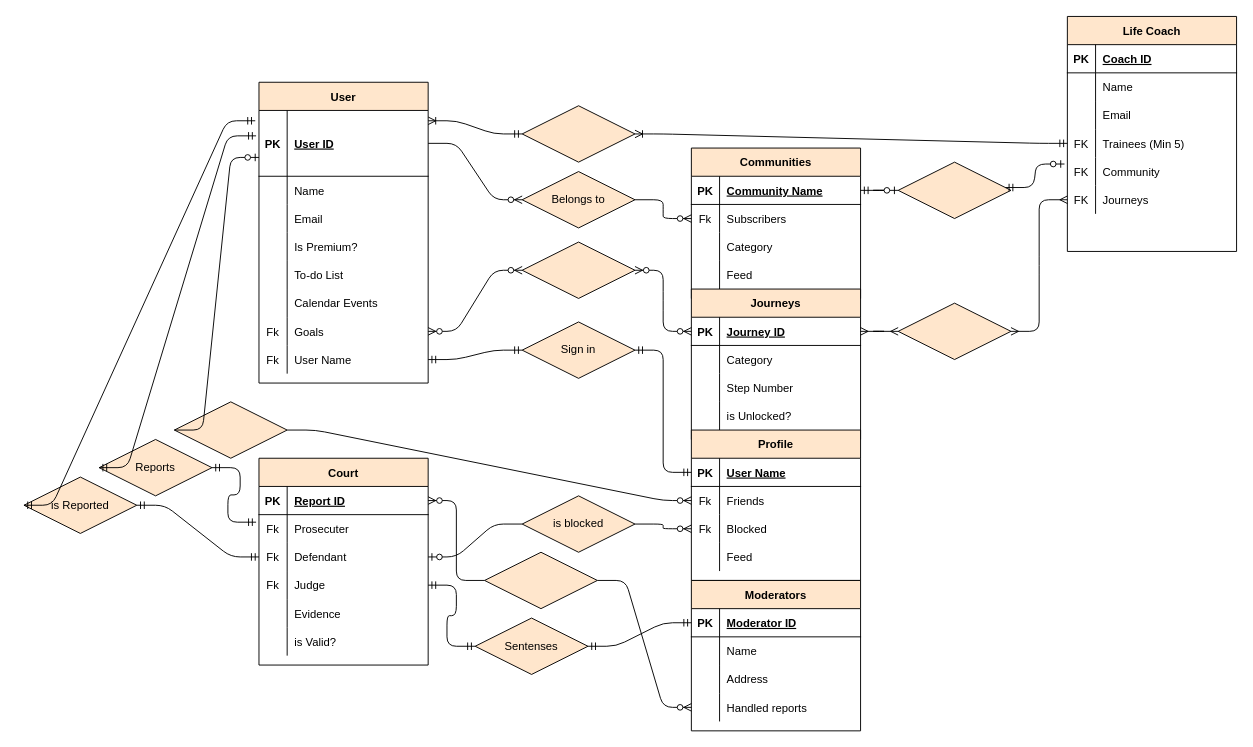
The diagram is 1253 pixels wide and 747 high, and some of its shapes have lost their labels. The centre of each missing label's shape, as x and y in pixels:
"are Trained by 1" belongs at (x=578, y=133).
"Creates" belongs at (x=954, y=331).
"Handled" belongs at (x=540, y=580).
"is Following" belongs at (x=578, y=269).
"is Friend" belongs at (x=230, y=429).
"Manages" belongs at (x=954, y=190).
